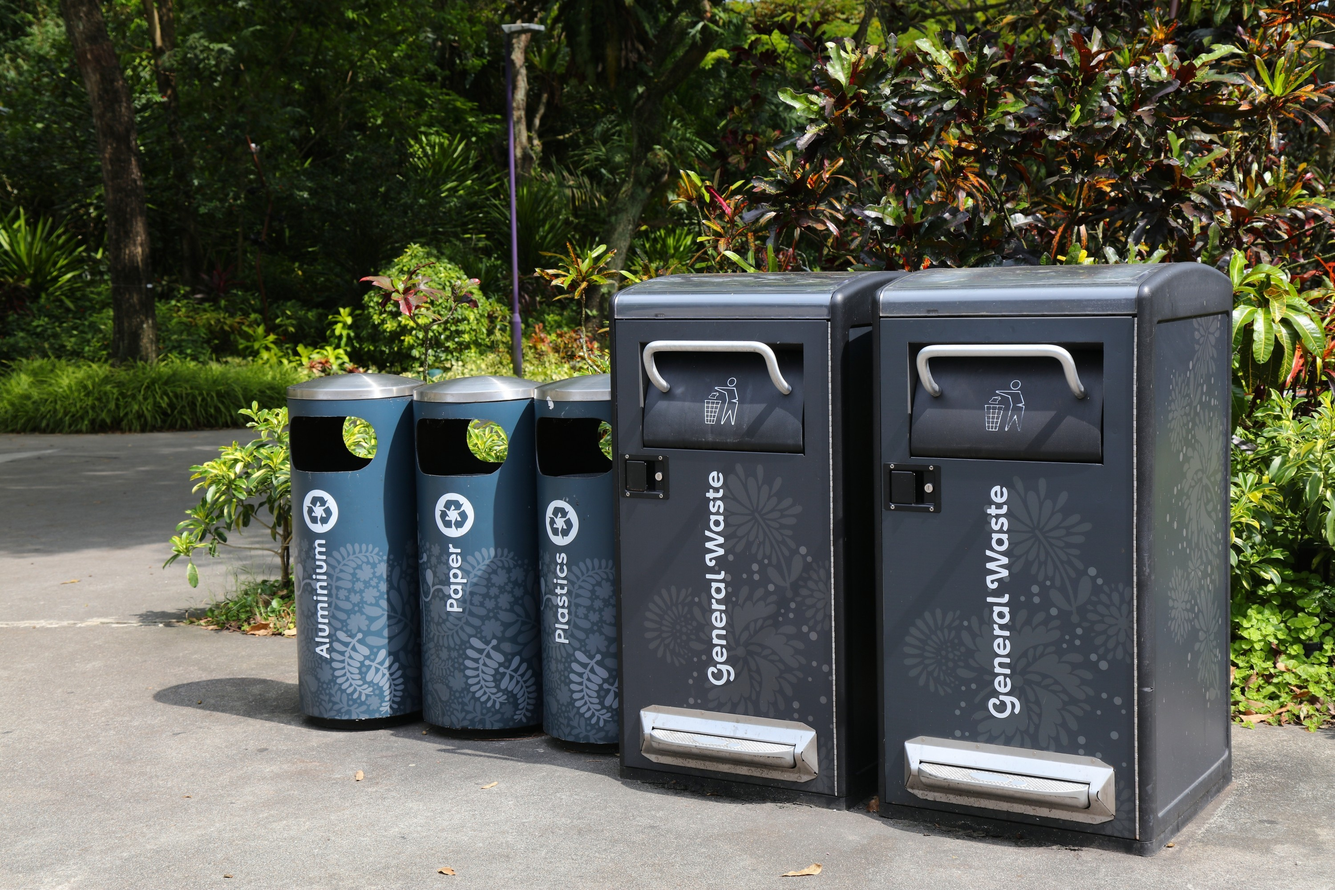bin_empty: (873, 263, 1230, 848), (612, 273, 894, 806), (288, 375, 422, 726), (414, 377, 542, 732), (536, 374, 620, 748)
